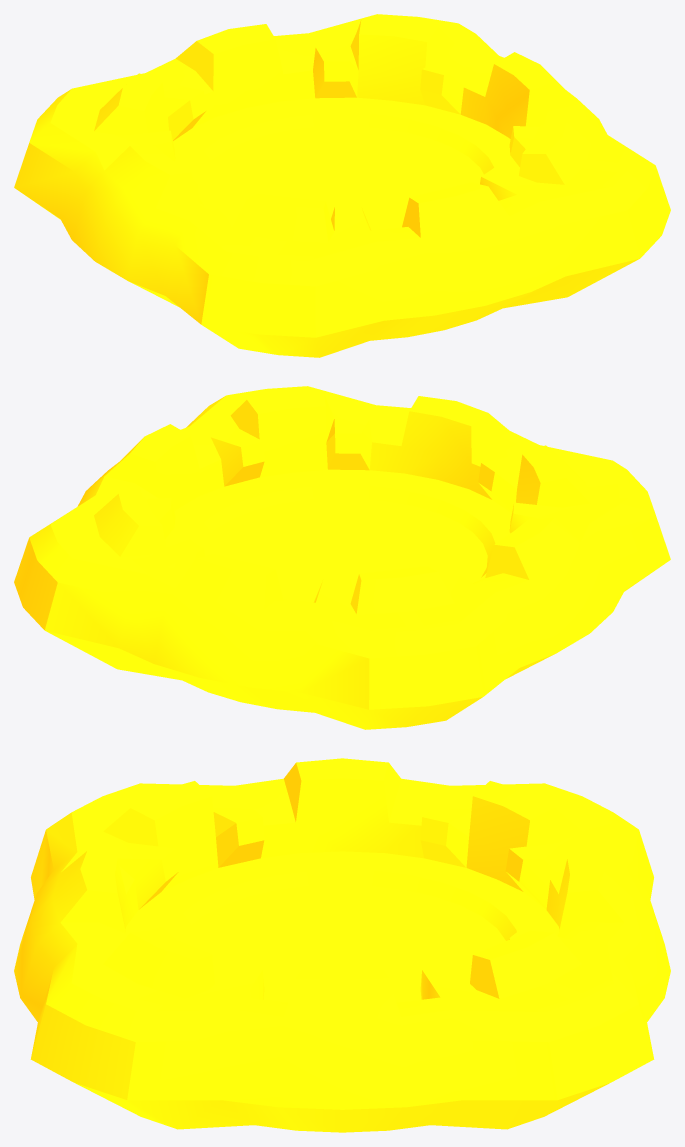
File: 01_yard_heavy_aegis.glb
The picture shows the model from 3 angles, top to bottom: view 1: azimuth 30°, elevation 25°; view 2: azimuth 150°, elevation 25°; view 3: azimuth 270°, elevation 25°; orthographic projection. The views are drawn at different scales.
Parts seen in each view (by area): view 1: 01_yard_heavy_aegis; view 2: 01_yard_heavy_aegis; view 3: 01_yard_heavy_aegis.
Part boxes in pixels (box(x1,y1,x2,y2)): 01_yard_heavy_aegis: box(14, 14, 670, 357); 01_yard_heavy_aegis: box(14, 386, 670, 729); 01_yard_heavy_aegis: box(14, 758, 670, 1132).
Size of the model in its own units: 1.06 by 0.302 by 1.06.
